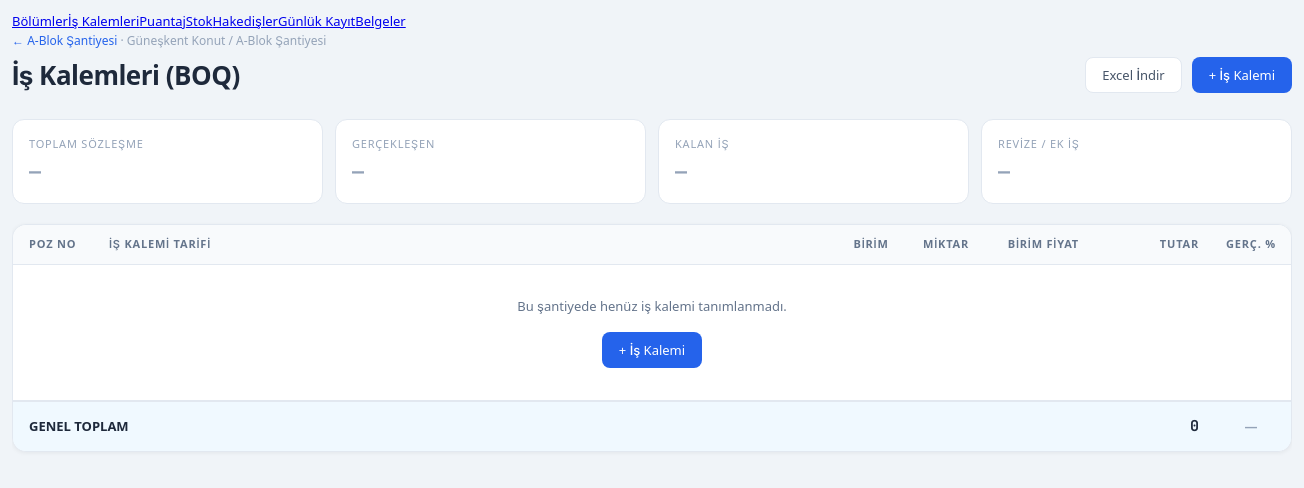
Test: BoqPage — Excel İndir (spec §8.3) › diğer hatada 'Excel dosyası indirilemedi.' basılır
Click the button "Excel İndir" at (1134,75), box [1085,57,1182,93]
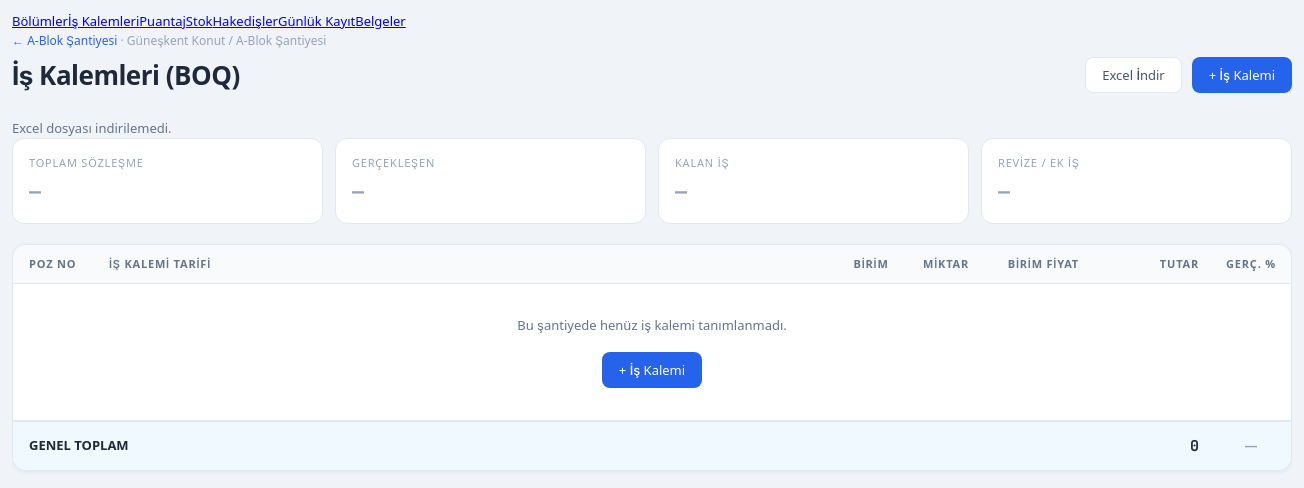
Check: the text "Excel dosyası indirilemedi." is shown, box [12,118,172,136]
